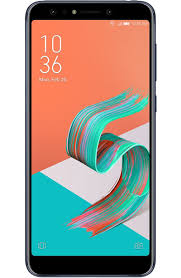asus: (18, 1, 161, 278)
